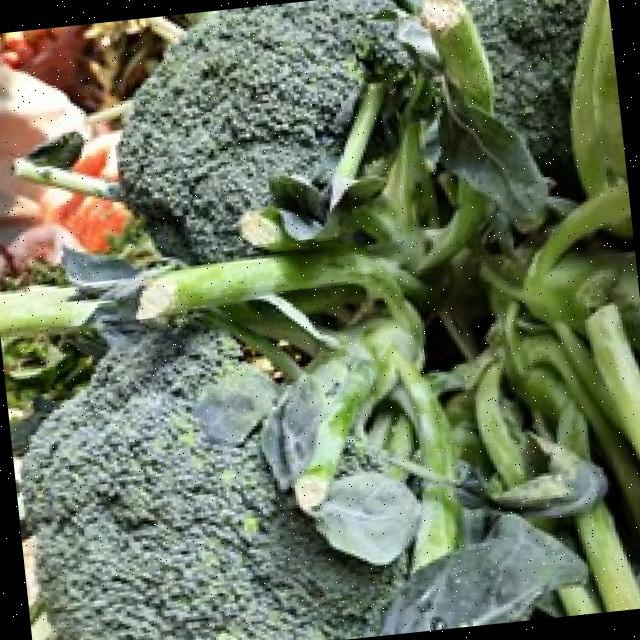Broccoli: (25, 329, 396, 640), (25, 329, 394, 640), (119, 0, 404, 262), (119, 0, 404, 261), (465, 0, 586, 184), (466, 0, 586, 184)
